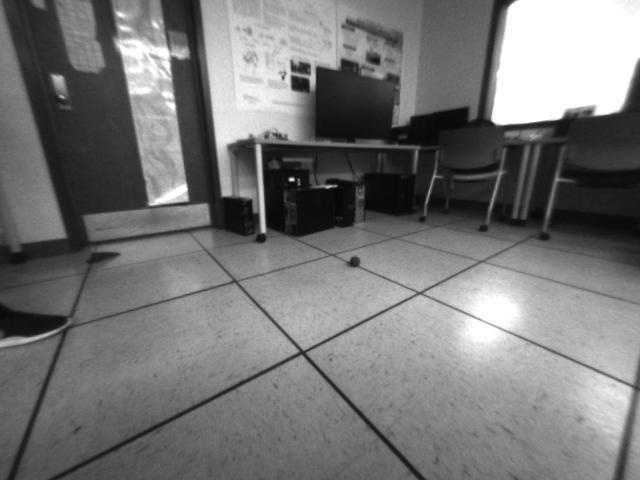dogtoy: (342, 246, 369, 271)
